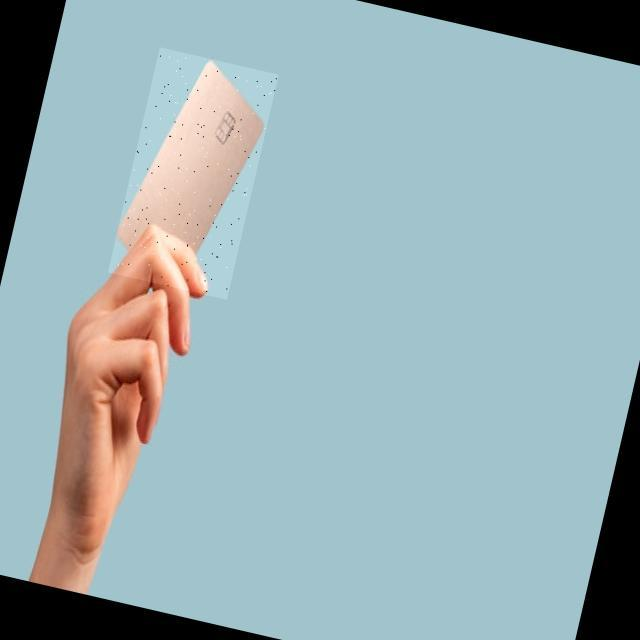payment_card: (109, 47, 278, 301)
